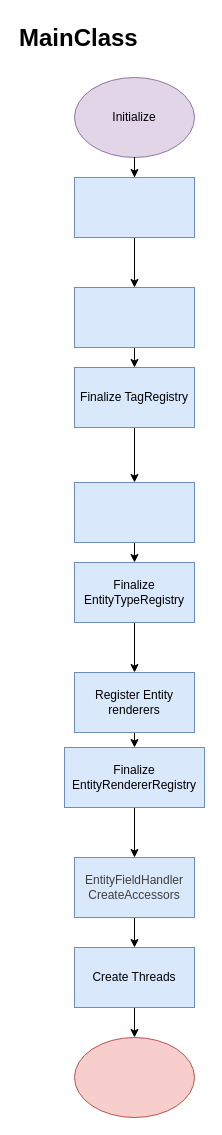
The diagram is 222 pixels wide and 1135 high, and some of its shapes have lost their labels. Each missing label, with the box of its shape:
Load Mods: (74, 176, 194, 238)
Register tags: (74, 286, 194, 348)
Registrer Static/Dynamic Entities: (74, 482, 194, 542)
Stop: (74, 1036, 194, 1118)
